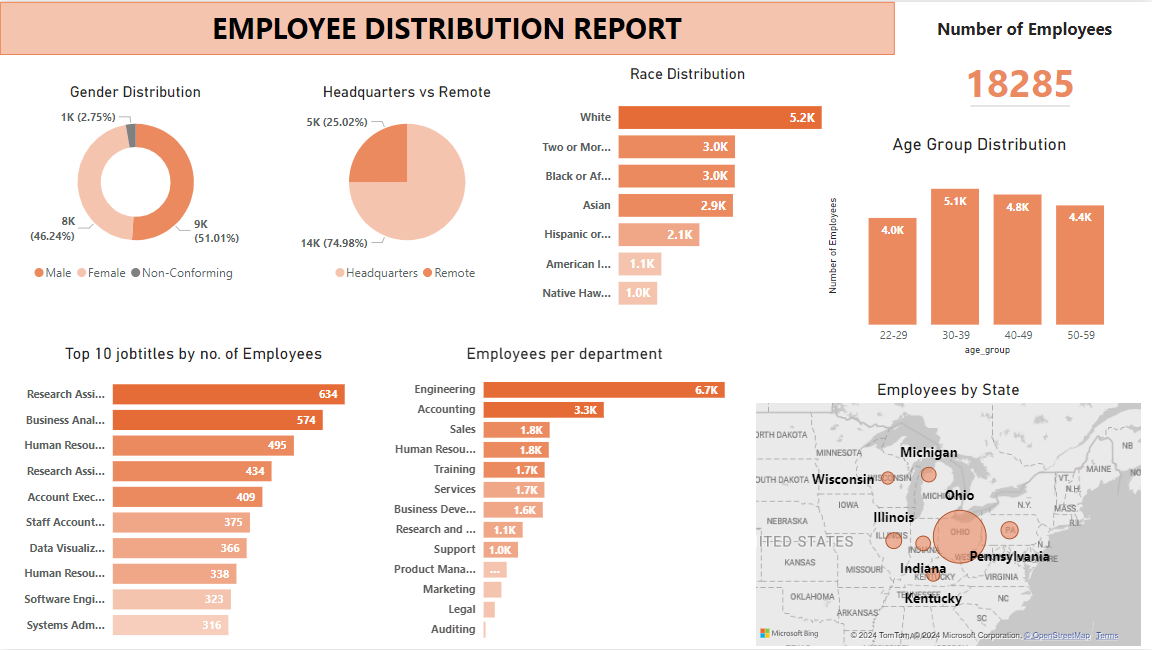

The page's visual inventory and layout, read from the dashboard file:
{"tool":"powerbi","page":{"name":"Employee Diversity","canvas":[1280,720],"ordinal":0},"visuals":[{"type":"textbox","box":[0,0,993.8,58.6],"z":0},{"type":"donutChart","title":"Gender Distribution","fields":{"Category":["Gender.gender"],"Y":["Sum(Gender.count)"]},"box":[0,89.5,300.9,229.3],"z":1000},{"type":"pieChart","title":"Headquarters vs Remote","fields":{"Y":["Sum(location.count)"],"Category":["location.location"]},"box":[300.9,89.5,300.9,229.3],"z":2000},{"type":"map","title":"Employees by State","fields":{"Size":["Sum(state.count)"],"Category":["state.location_state"]},"box":[834.4,419.6,437.5,300.9],"z":3000},{"type":"clusteredBarChart","title":"Race Distribution","fields":{"Category":["Race.race"],"Y":["Sum(Race.count)"]},"box":[585.6,69.9,357.8,284.6],"z":4000},{"type":"textbox","box":[1013.8,11.6,240.2,117.6],"z":5000},{"type":"columnChart","title":"Age Group Distribution","fields":{"Category":["age_group.age_group"],"Y":["Sum(age_group.count)"]},"box":[915.7,146.4,346.5,250.5],"z":6000},{"type":"clusteredBarChart","title":"Top 10 jobtitles by no. of Employees","fields":{"Category":["jobtitle.jobtitle"],"Y":["Sum(jobtitle.count)"]},"box":[9.8,380.6,409.9,339.9],"z":7000},{"type":"shape","box":[1078.4,104.1,110.6,24.4],"z":8000},{"type":"clusteredBarChart","title":"Employees per department","fields":{"Y":["Human Resources.Total Employees"],"Category":["Human Resources.department"]},"box":[419.6,380.6,414.8,339.9],"z":9000}]}

Visuals, with their boxes in screenshot pixels (x1, y1, x2, y2), scaled from the page's 1280x720 canvas onto the 1152x650 screenshot:
textbox: locate(0, 0, 894, 53)
"Gender Distribution" donutChart: locate(0, 81, 271, 288)
"Headquarters vs Remote" pieChart: locate(271, 81, 542, 288)
"Employees by State" map: locate(751, 379, 1145, 649)
"Race Distribution" clusteredBarChart: locate(527, 63, 849, 320)
textbox: locate(912, 10, 1129, 117)
"Age Group Distribution" columnChart: locate(824, 132, 1136, 358)
"Top 10 jobtitles by no. of Employees" clusteredBarChart: locate(9, 344, 378, 649)
shape: locate(971, 94, 1070, 116)
"Employees per department" clusteredBarChart: locate(378, 344, 751, 649)
